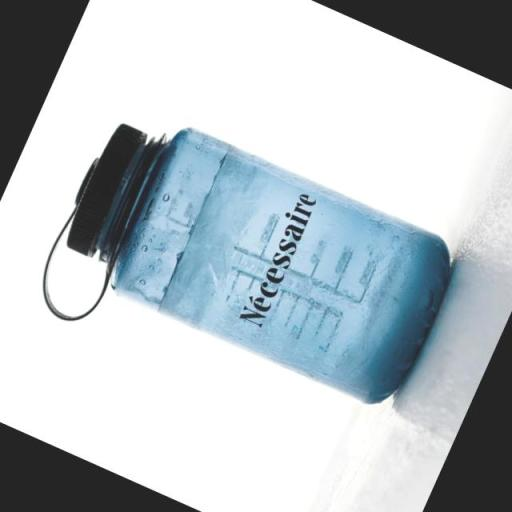bottle: (13, 82, 474, 478)
